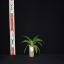leaf: (21, 36, 32, 43), (33, 45, 40, 54), (24, 45, 31, 53), (32, 35, 40, 42), (33, 38, 44, 43), (33, 41, 42, 47), (21, 40, 31, 44), (33, 46, 37, 53), (27, 43, 32, 45)
